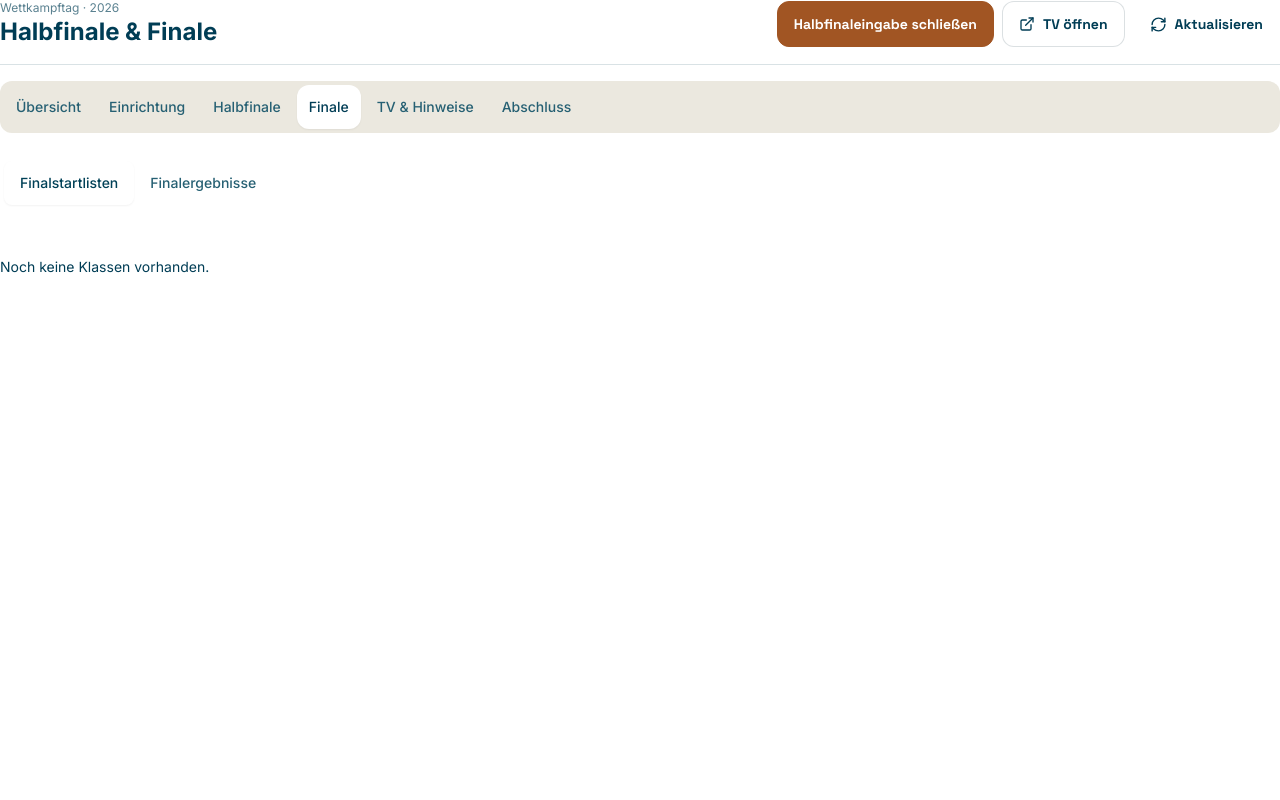
Test case: competition center › closes semifinal input directly from the start-list area only after confirmation
Click the button "Halbfinaleingabe schließen".
click(885, 24)  # box [777,1,994,47]
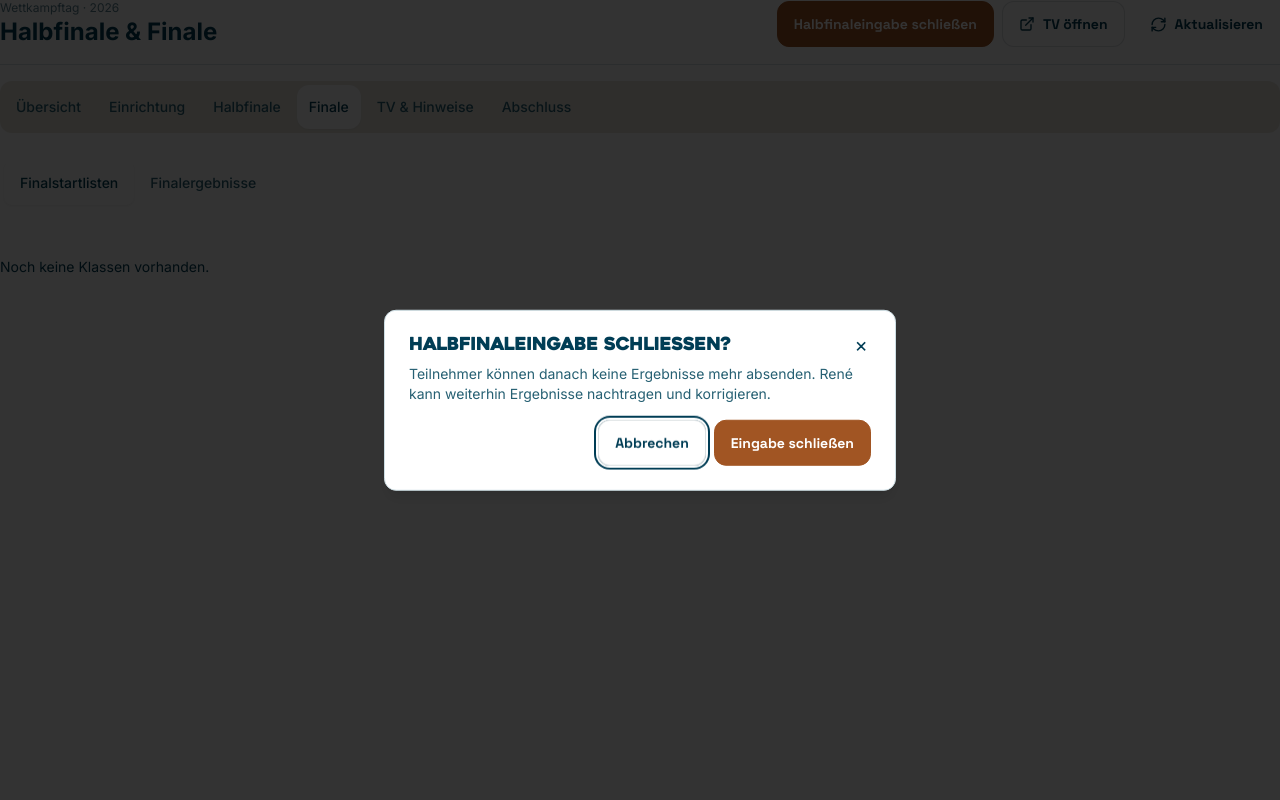
Expected: the dialog shows "René kann weiterhin Ergebnisse nachtragen", [409,364,853,401]
Click the button "Eingabe schließen".
click(792, 442)  # box [714,419,871,465]
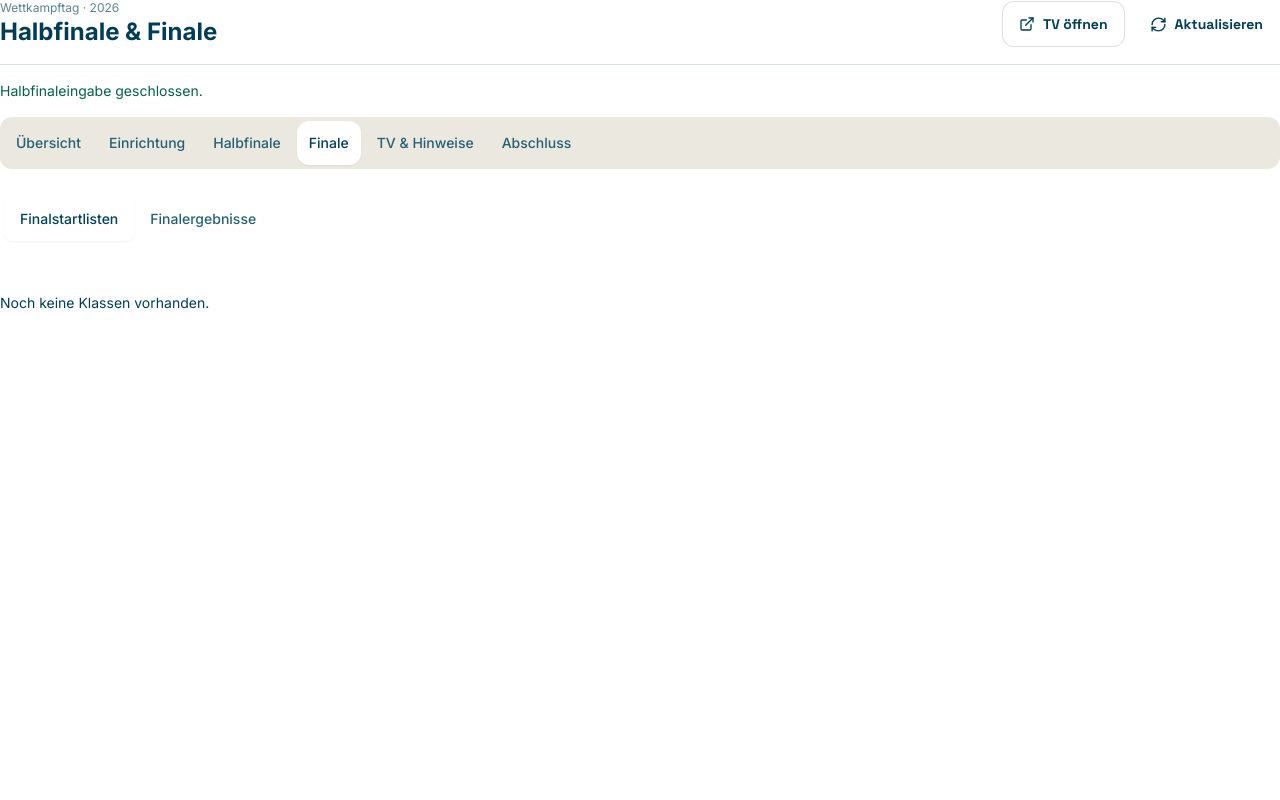
Expected: the dialog is gone
Expected: the button "Halbfinaleingabe schließen" is gone
